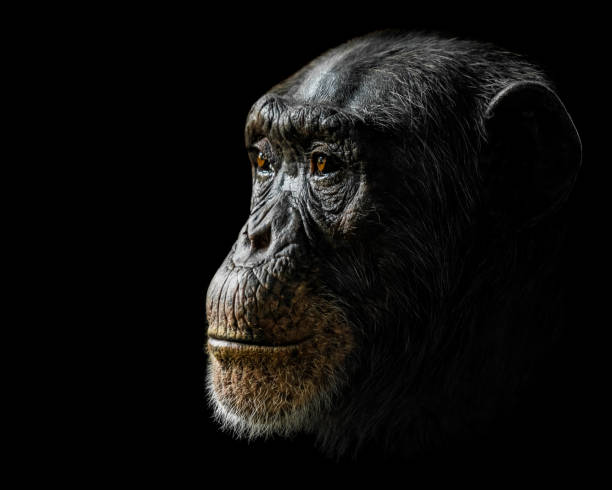chimpanzee: (153, 14, 571, 461)
